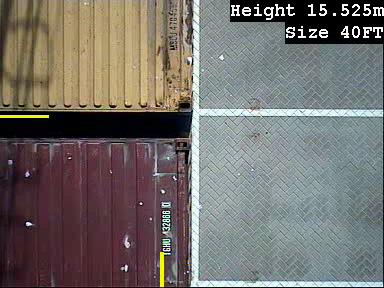groundmarker_2: (197, 31, 236, 87), (197, 209, 236, 264)
